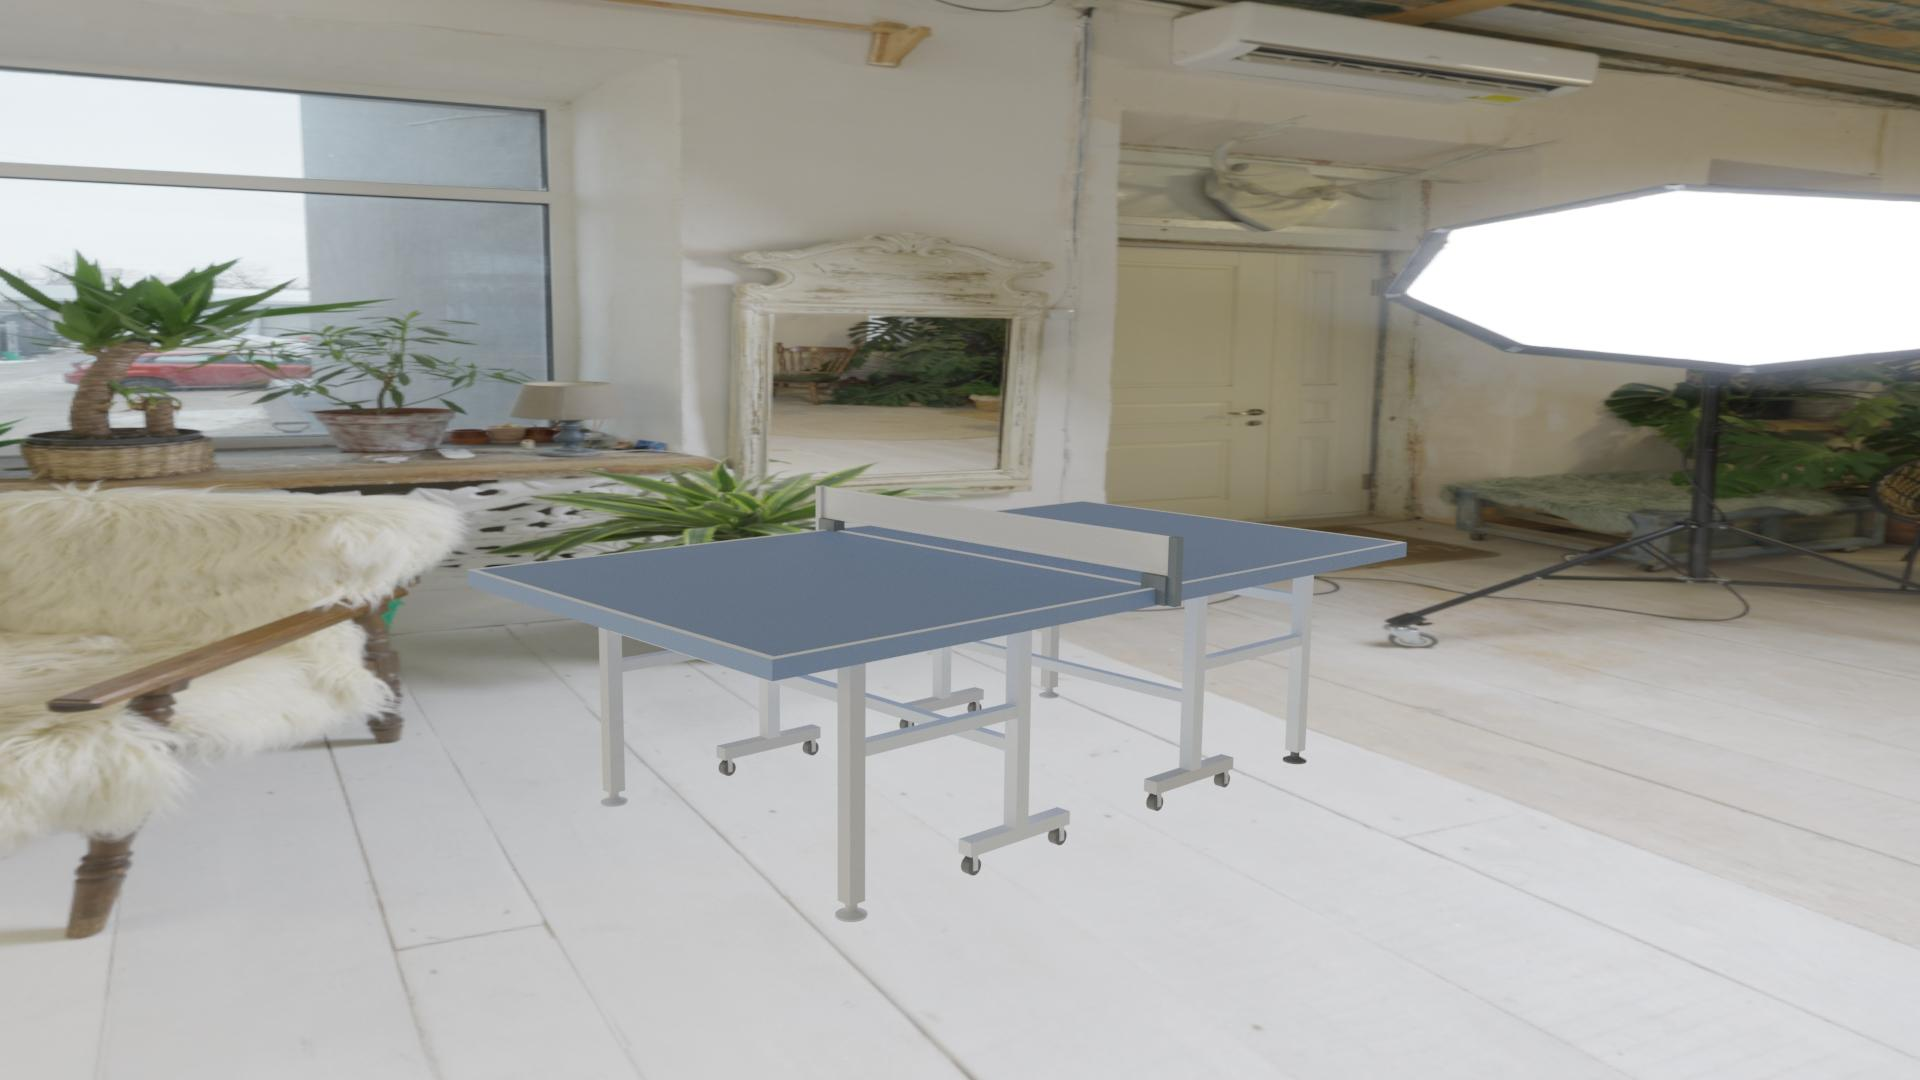table: (477, 501, 1399, 657)
